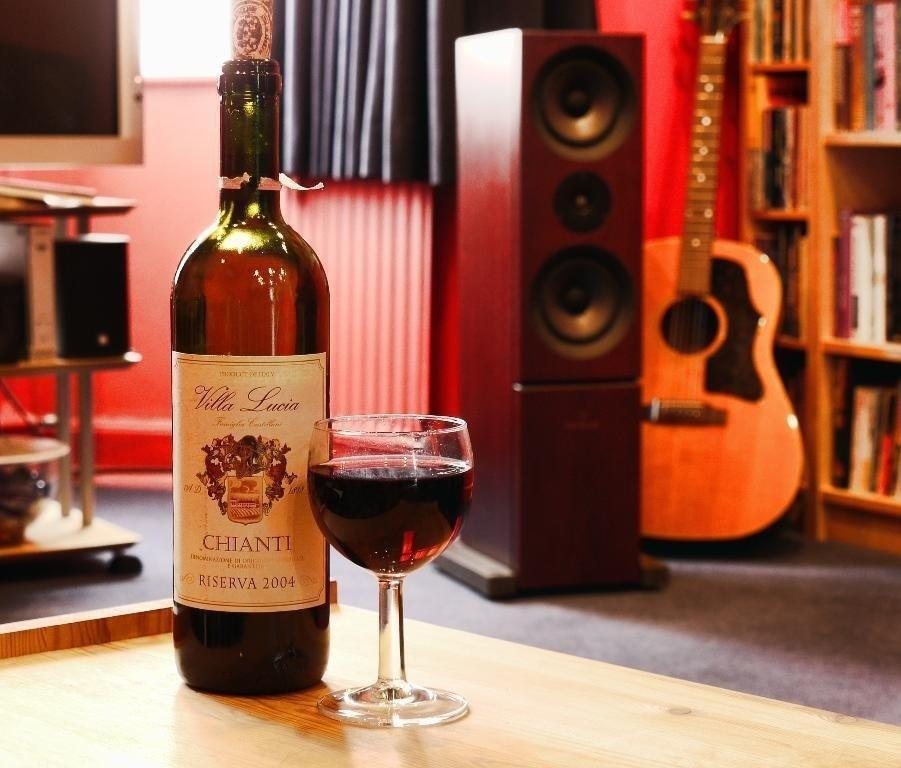bottle-glass: (167, 57, 335, 696)
glass-wine: (304, 411, 478, 733)
